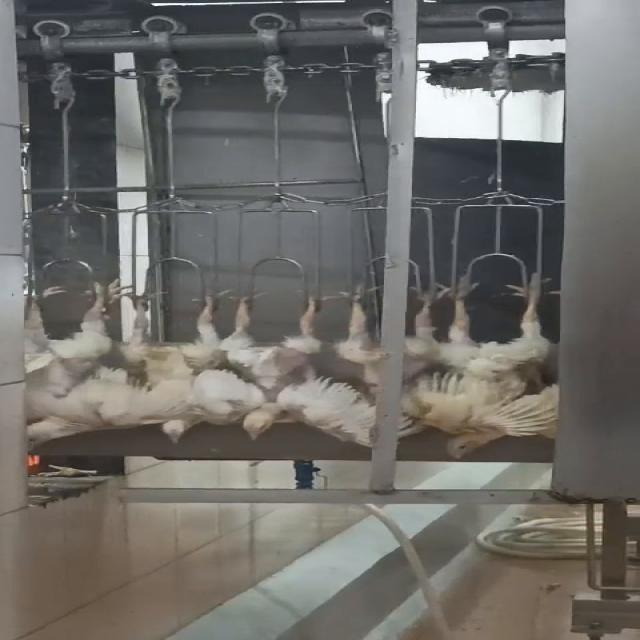chicken: (420, 268, 544, 458), (117, 285, 248, 445), (18, 278, 130, 456), (210, 285, 336, 436), (347, 274, 429, 452)
